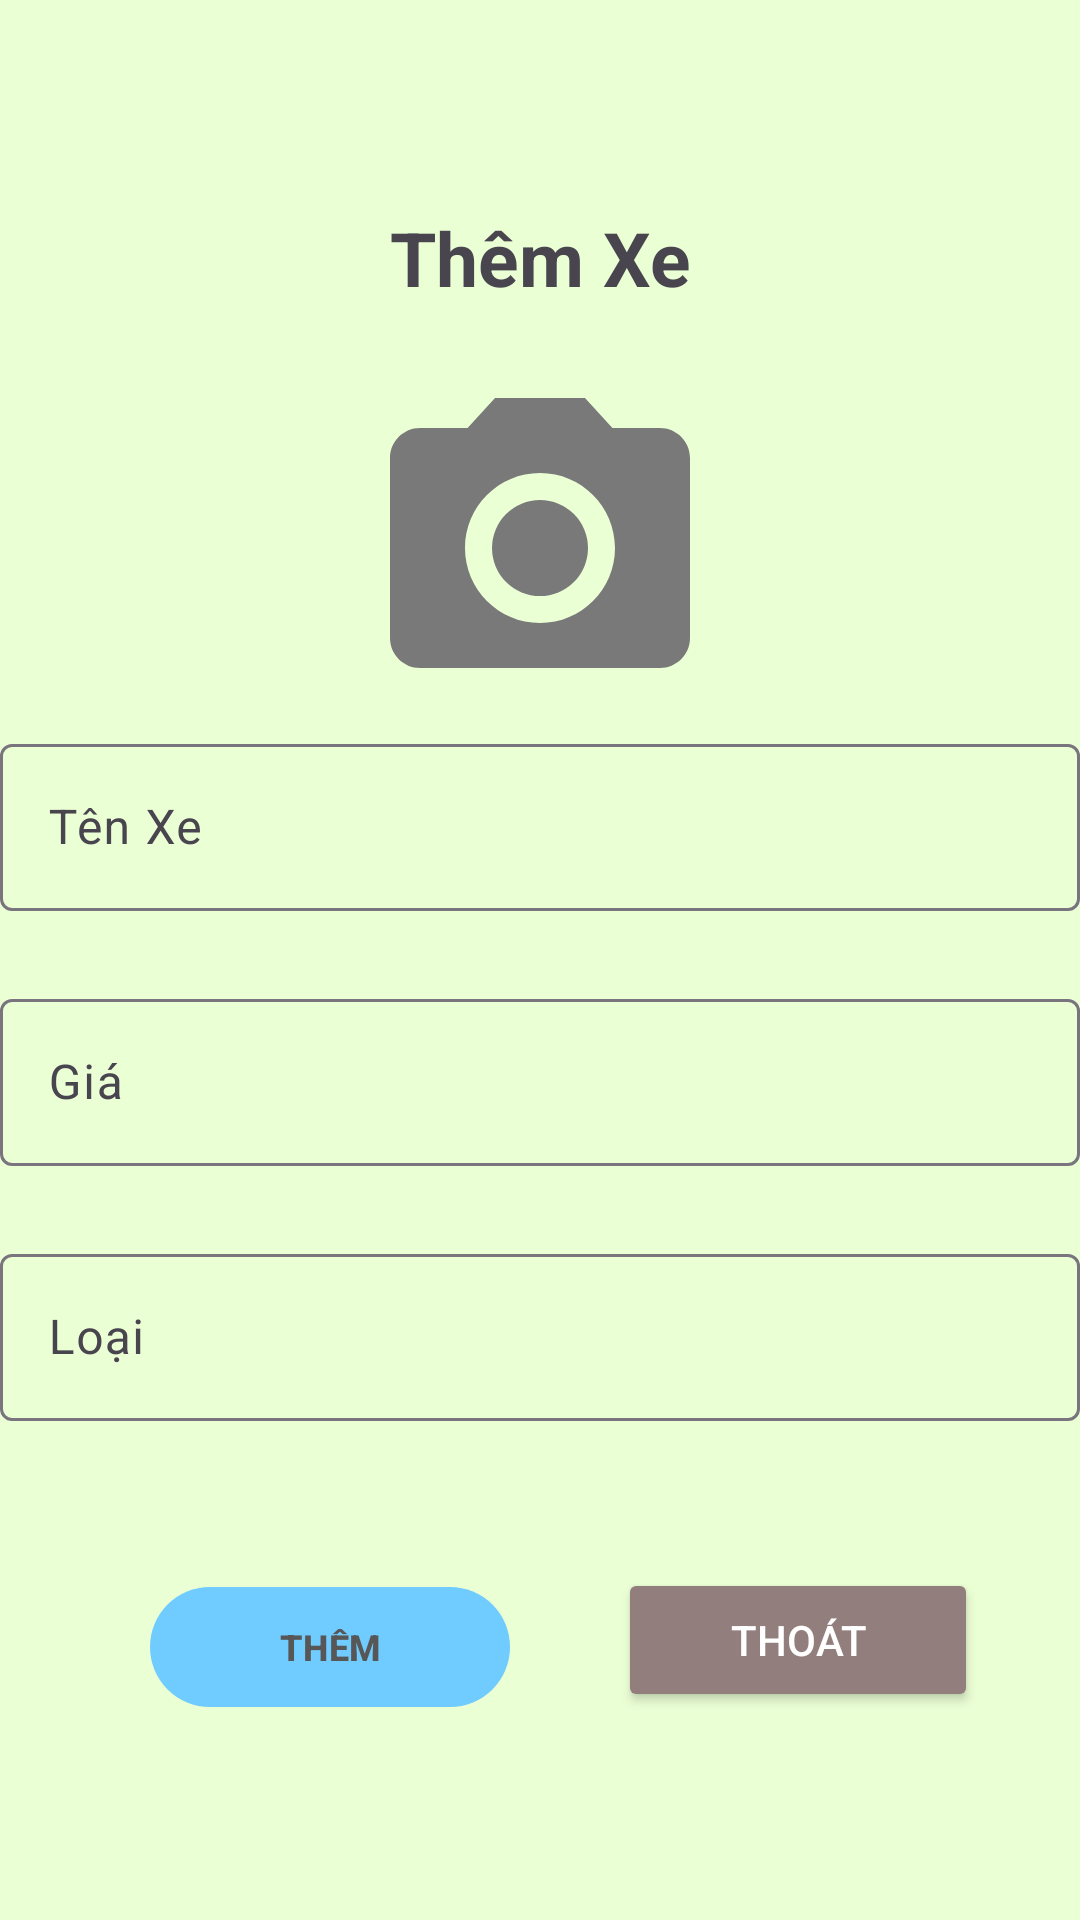

Icons on this 1080x1920 Android screen, each with the point to tap as [x,y]:
camera: [540,533]
